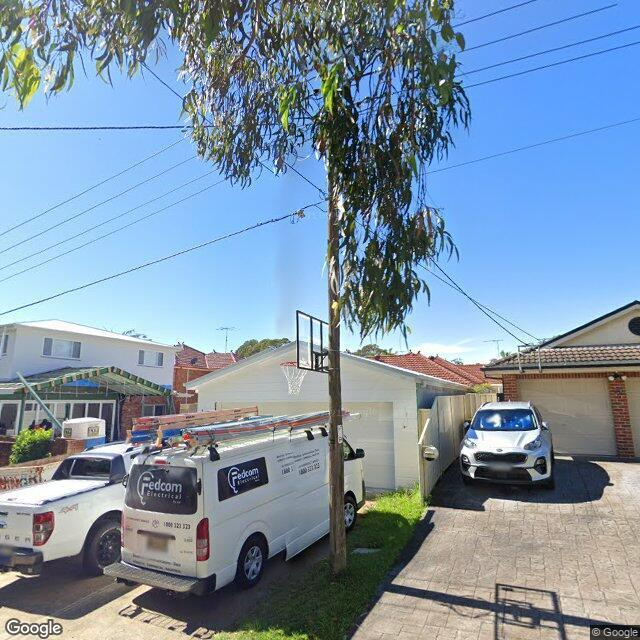timber-pole: (326, 100, 349, 586)
